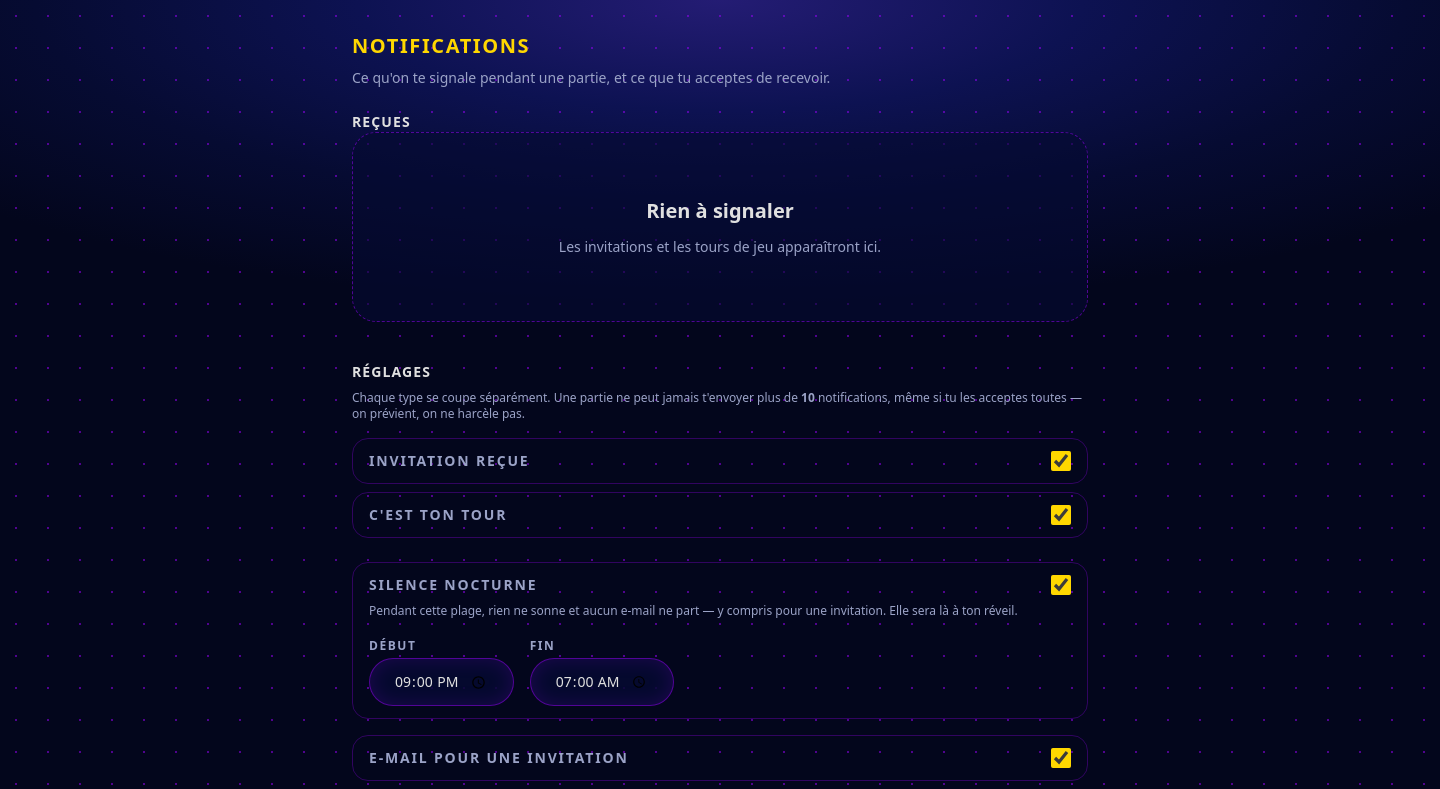
Test: NotificationsView › dit qu'un réglage n'a pas été enregistré quand le serveur refuse
Click the checkbox labelled "Silence nocturne" at (1061, 585), box [1051,575,1071,595]
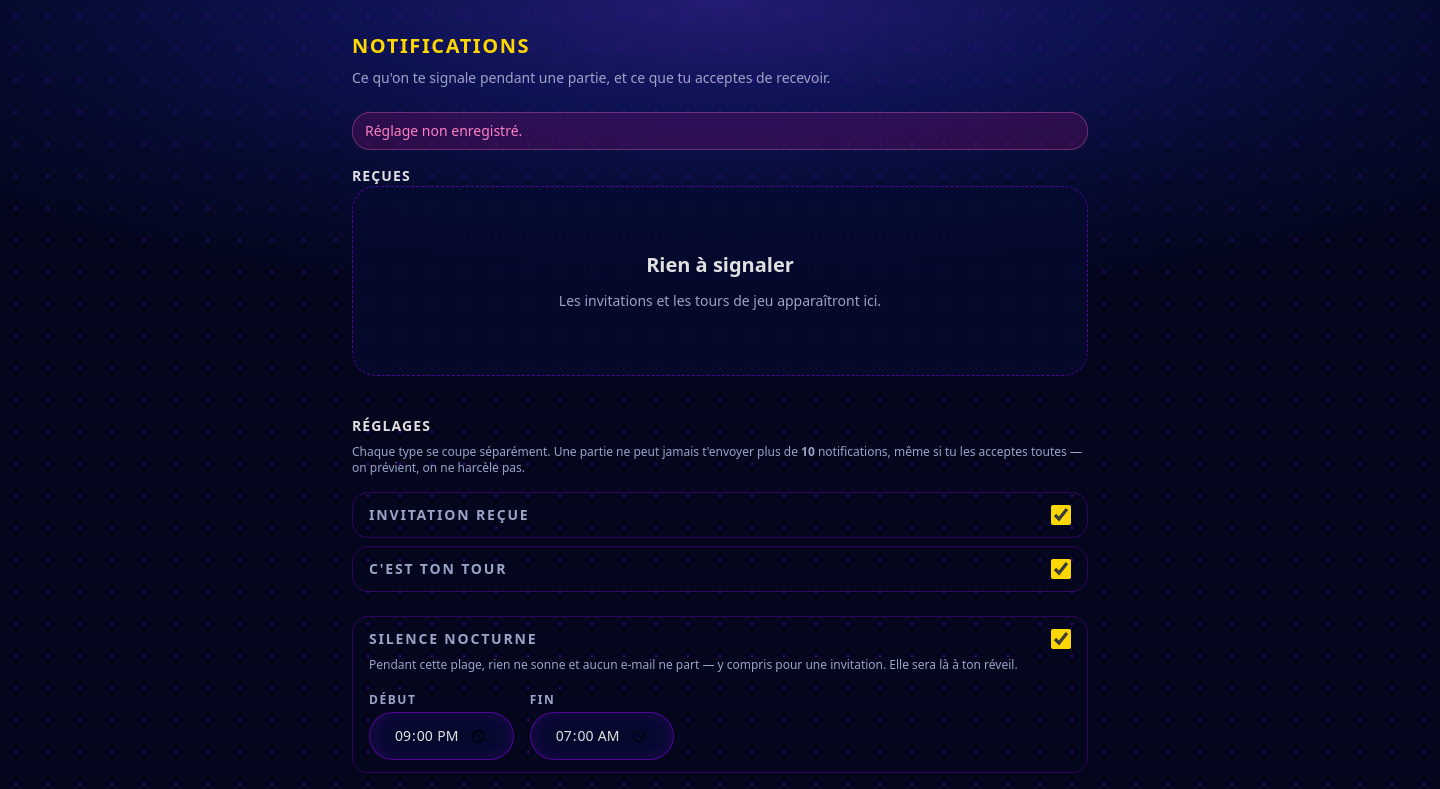
Now the text "Réglage non enregistré." is shown, box [352,112,1088,150]
